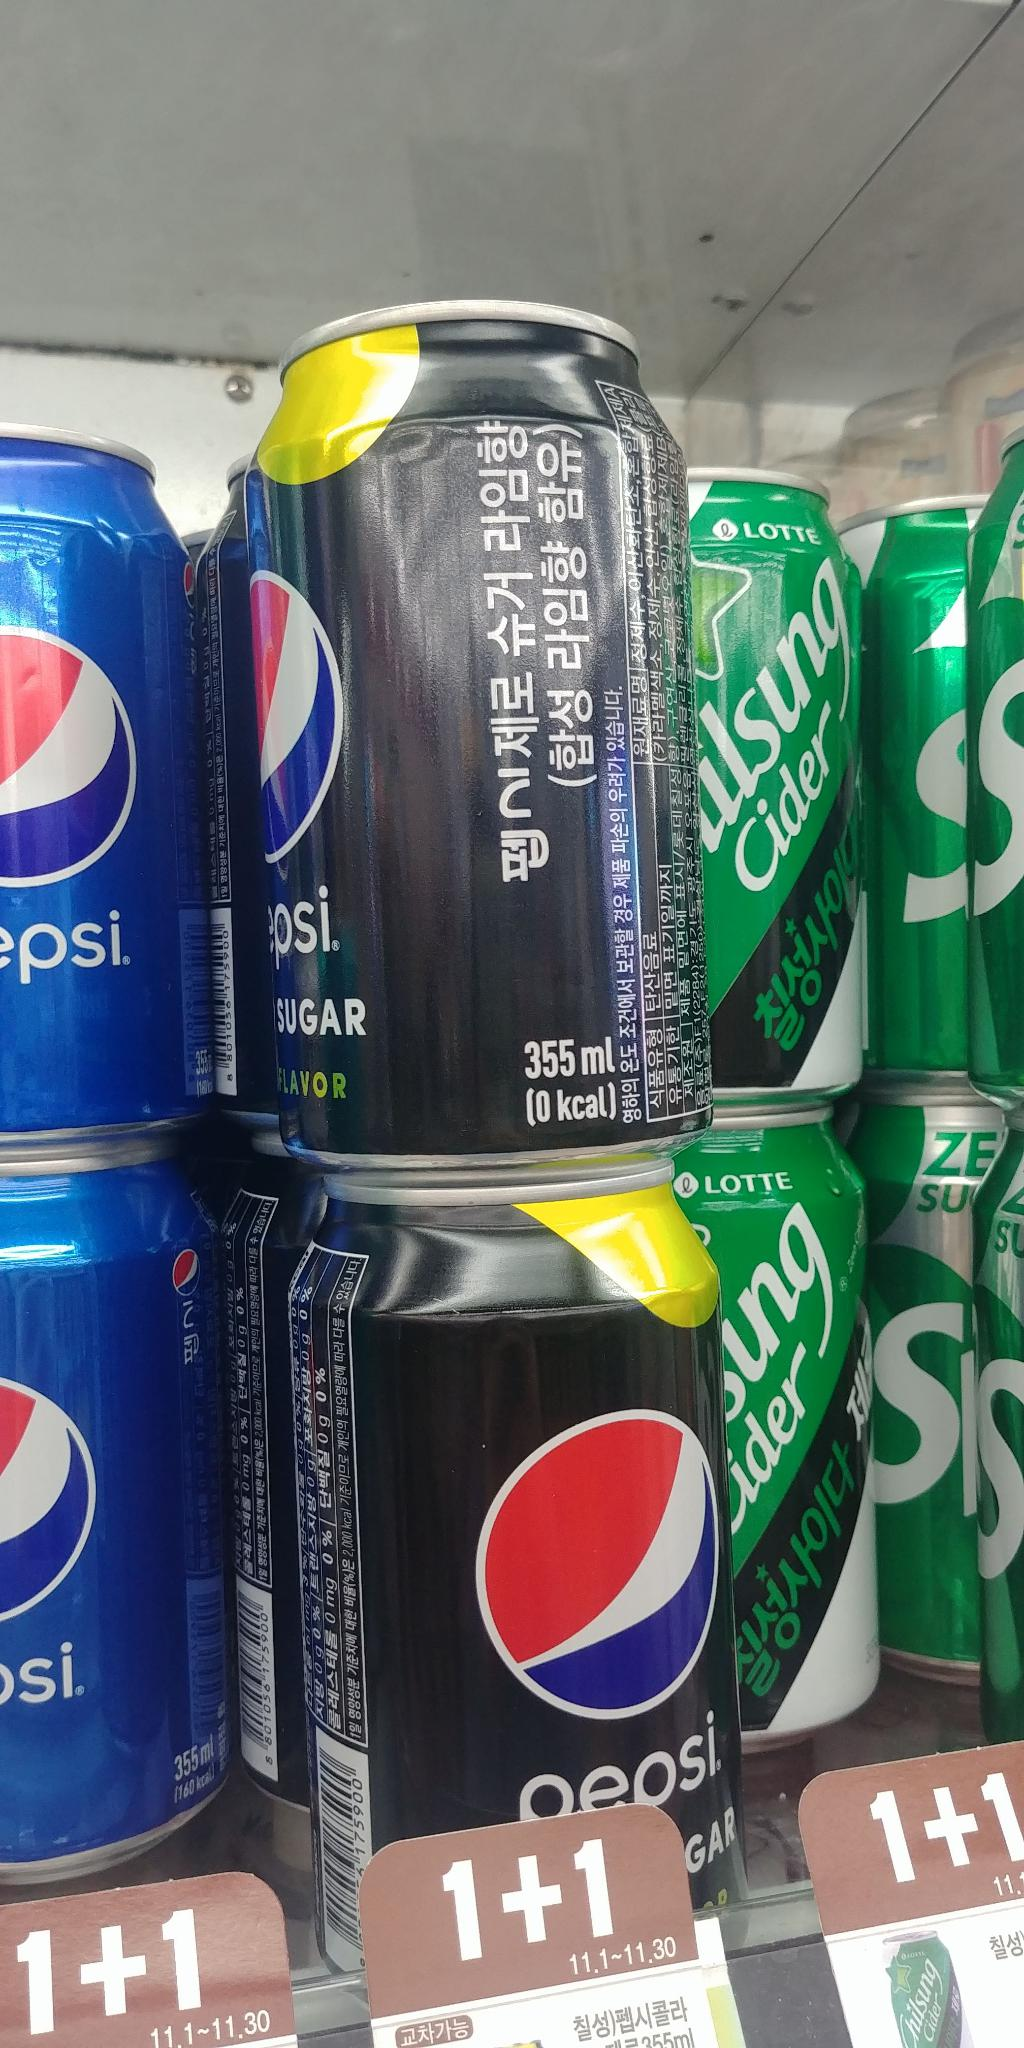pepsi_zero: (227, 290, 730, 1173), (273, 1191, 785, 2009)
